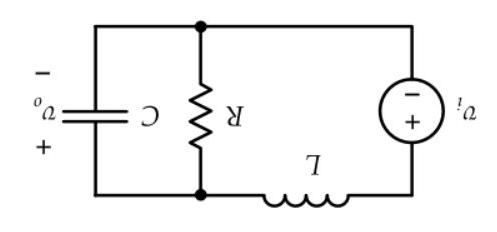inductor: (238, 171, 361, 213)
